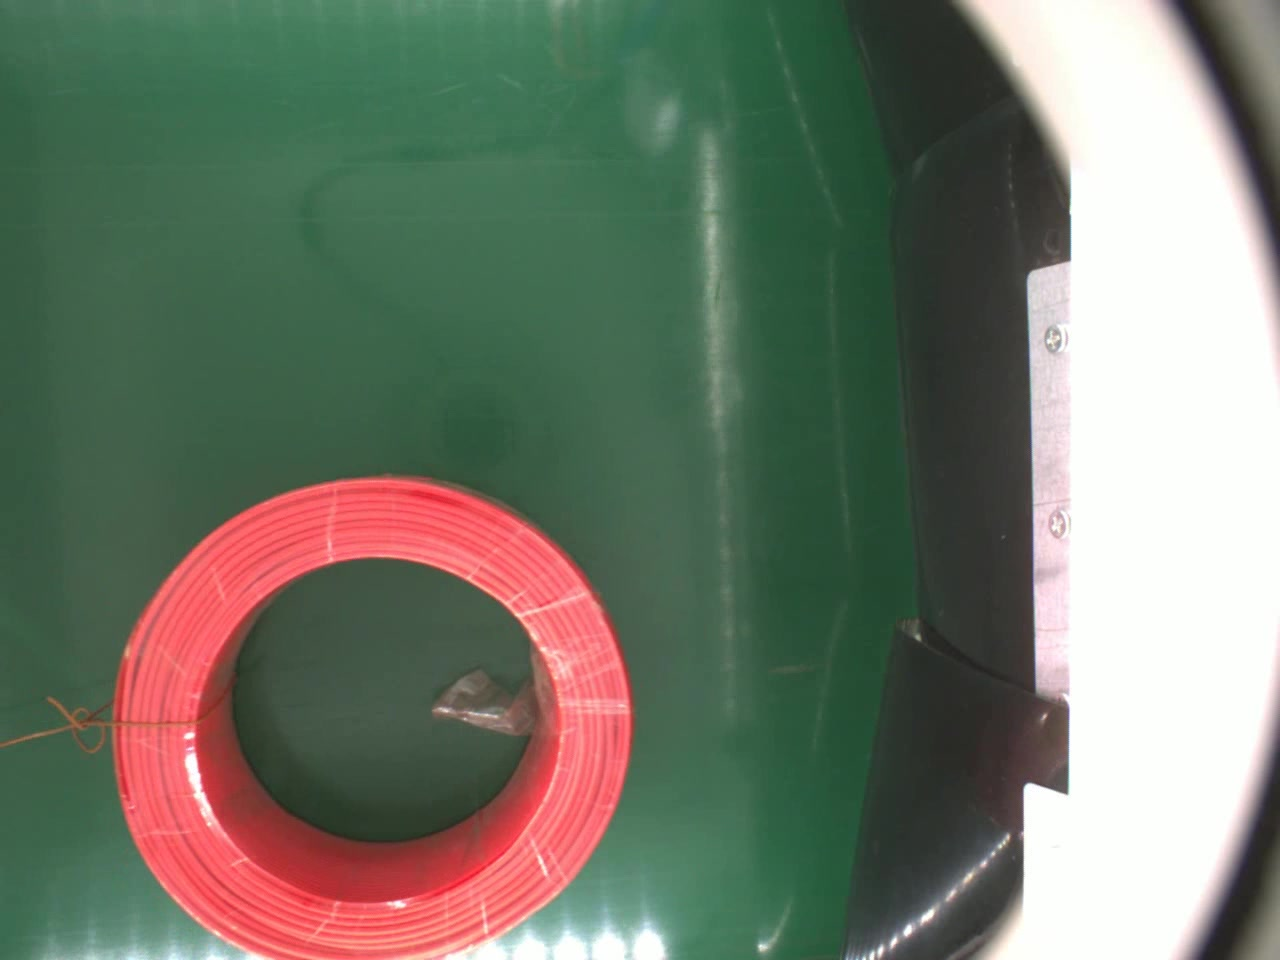red: (110, 473, 642, 960)
